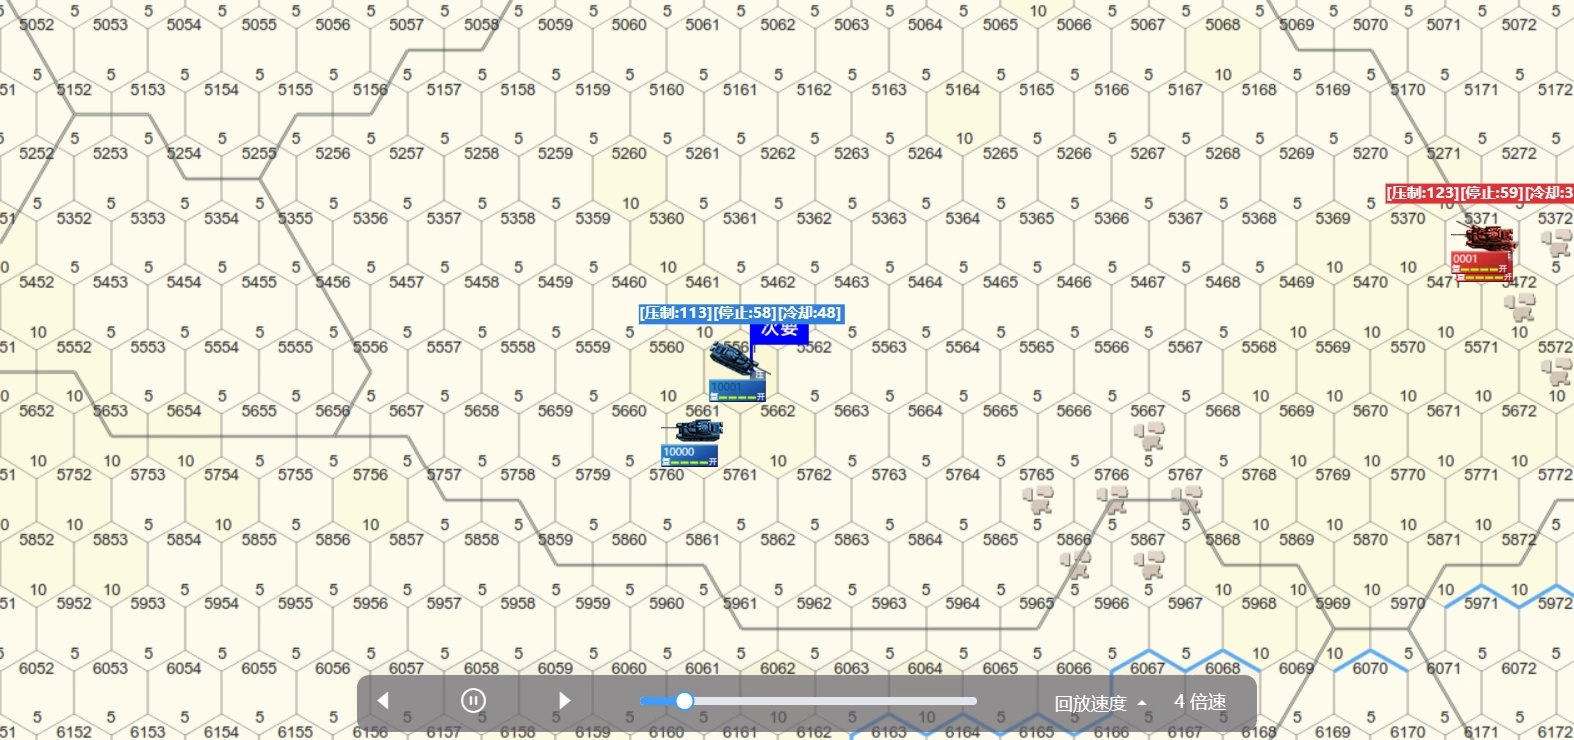blue_tank: (712, 341, 775, 409), (675, 416, 729, 473)
red_tank: (1449, 226, 1520, 287)
